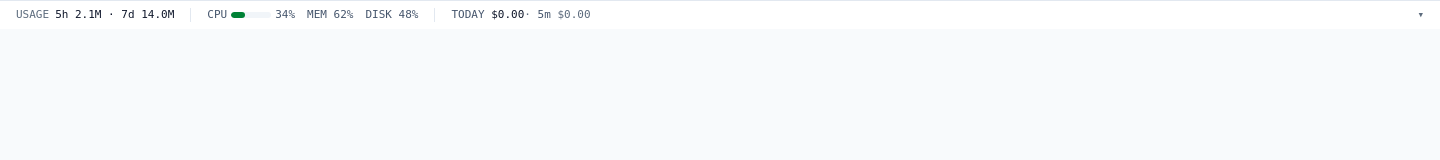
it: appStatusBar › opens usage popover on click showing both windows
The image size is (1440, 160).
Click the button with test id "seg-usage" at (95, 15), box [12, 7, 178, 23]
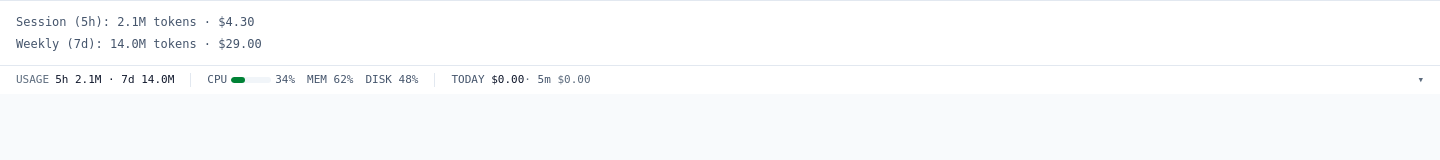
Expected: the element with test id "panel-usage" shows "5h", [16, 15, 254, 29]
Expected: the element with test id "panel-usage" shows "7d", [16, 37, 262, 51]
